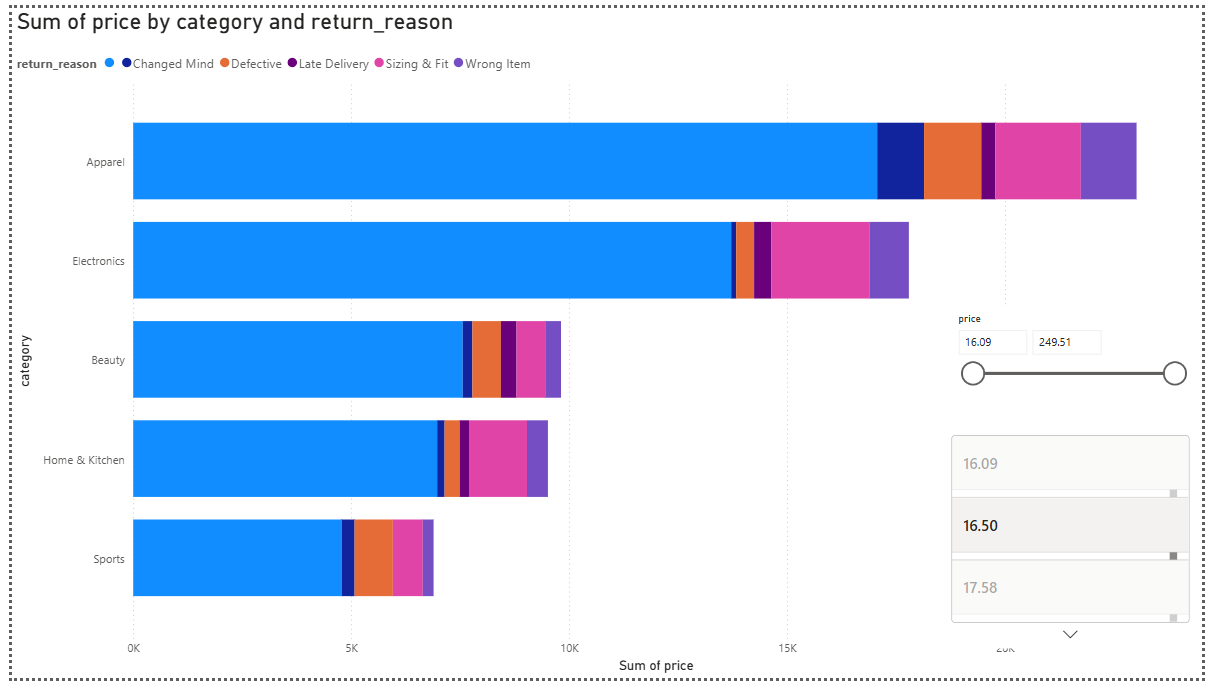

This screenshot's page, from the dashboard's own definition file:
{"tool":"powerbi","page":{"name":"Page 1","canvas":[1280,720],"ordinal":0},"visuals":[{"type":"barChart","fields":{"Category":["ECommerce_Sales_and_Returns_Dataset.category"],"Y":["Sum(ECommerce_Sales_and_Returns_Dataset.price)"],"Series":["ECommerce_Sales_and_Returns_Dataset.return_reason"]},"box":[0,0,1269.9,720],"z":0},{"type":"slicer","fields":{"Values":["ECommerce_Sales_and_Returns_Dataset.price"]},"box":[1004.2,322.9,266.7,110.4],"z":1001},{"type":"cardVisual","fields":{"Data":["Min(ECommerce_Sales_and_Returns_Dataset.category)"],"Rows":["ECommerce_Sales_and_Returns_Dataset.price"]},"box":[1004.2,433.3,266.7,254.2],"z":1002}]}

Visuals, with their boxes in screenshot pixels (x1, y1, x2, y2), scaled from the page's 1280x720 canvas onto the 1216x693 screenshot:
barChart - ECommerce_Sales_and_Returns_Dataset.category x Sum(ECommerce_Sales_and_Returns_Dataset.price): left=0, top=0, right=1206, bottom=692
slicer - ECommerce_Sales_and_Returns_Dataset.price: left=954, top=311, right=1207, bottom=417
cardVisual - Min(ECommerce_Sales_and_Returns_Dataset.category) x ECommerce_Sales_and_Returns_Dataset.price: left=954, top=417, right=1207, bottom=662
